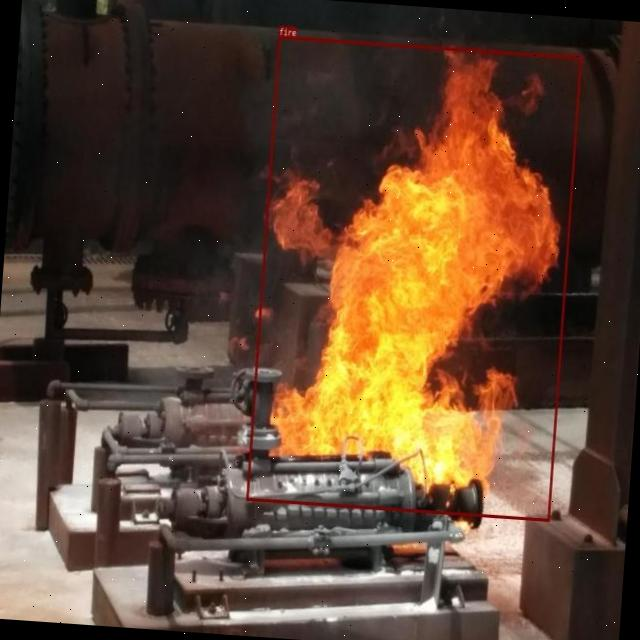fire: (245, 36, 581, 522)
